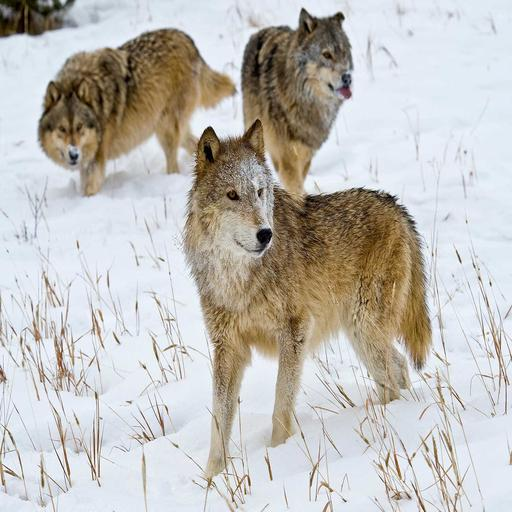Wolf: (172, 117, 443, 485), (30, 23, 240, 208), (223, 0, 366, 223)
